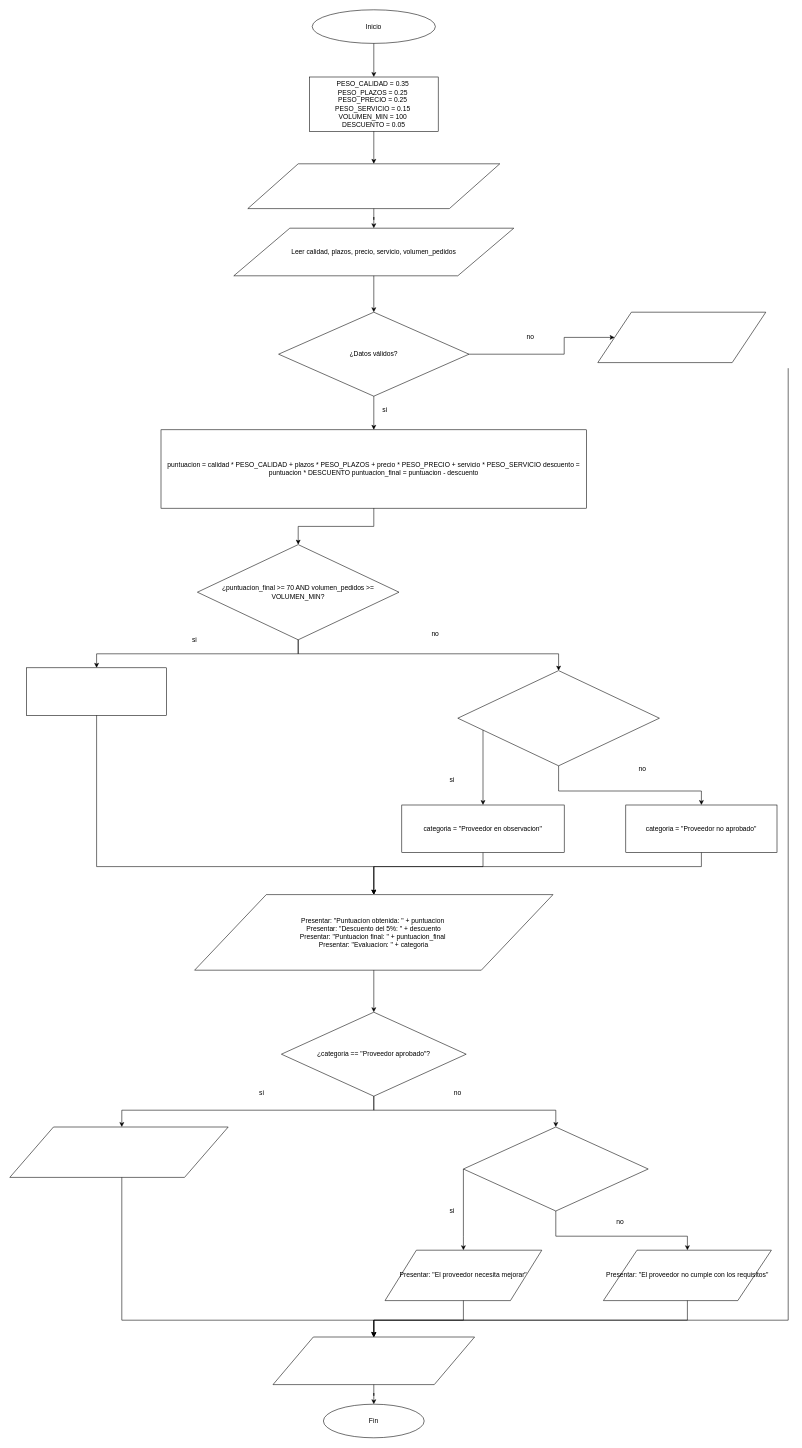
Some shapes in this 802 by 1448 pixel diagram are drawn without their labels. Here are the shapes that lost their labels. From the top down, the centre of each, then its label:
point (373, 186): Presentar: "Bienvenido al sistema de evaluacion de proveedores"
point (681, 337): Presentar: "Error, datos ingresados no validos"
point (96, 691): categoria = "Proveedor aprobado"
point (558, 718): ¿puntuacion_final >= 50 AND volumen_pedidos >= VOLUMEN_MIN?
point (118, 1151): Presentar: "El proveedor cumple con los requisitos"
point (555, 1168): ¿categoria == "Proveedor en observacion"?
point (373, 1360): Presentar: "Final de operacion, fin del sistema"
